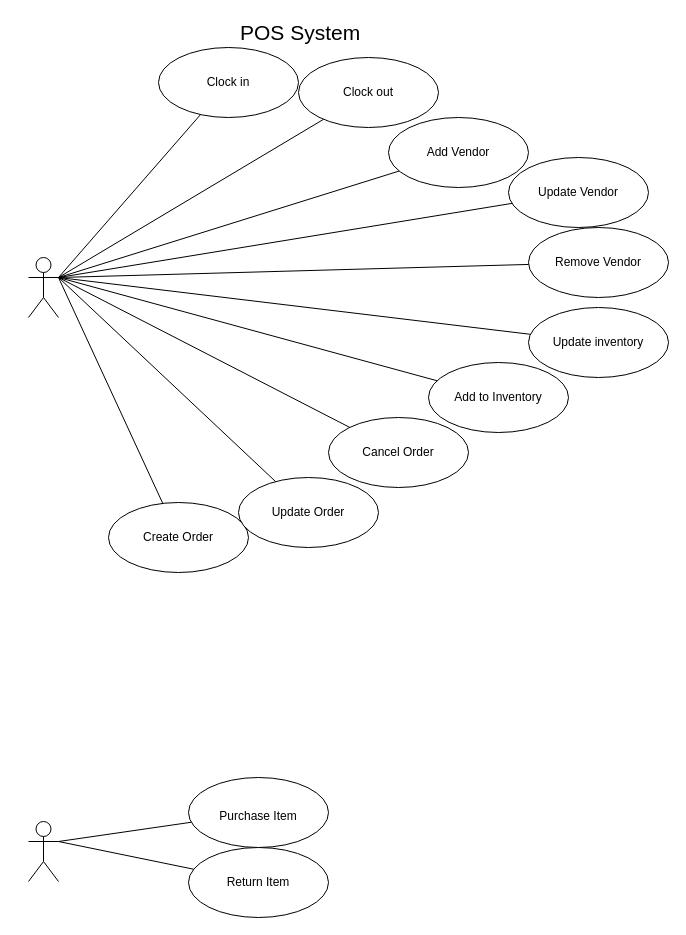
The diagram is 686 pixels wide and 935 high, and some of its shapes have lost their labels. Here are the shapes that lost their labels. From the top down, the box of each, then its label:
(28, 256, 58, 318): Employee
(28, 820, 58, 882): Customer
